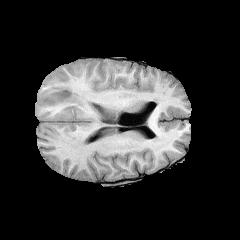glioma: (40, 74, 95, 161)
